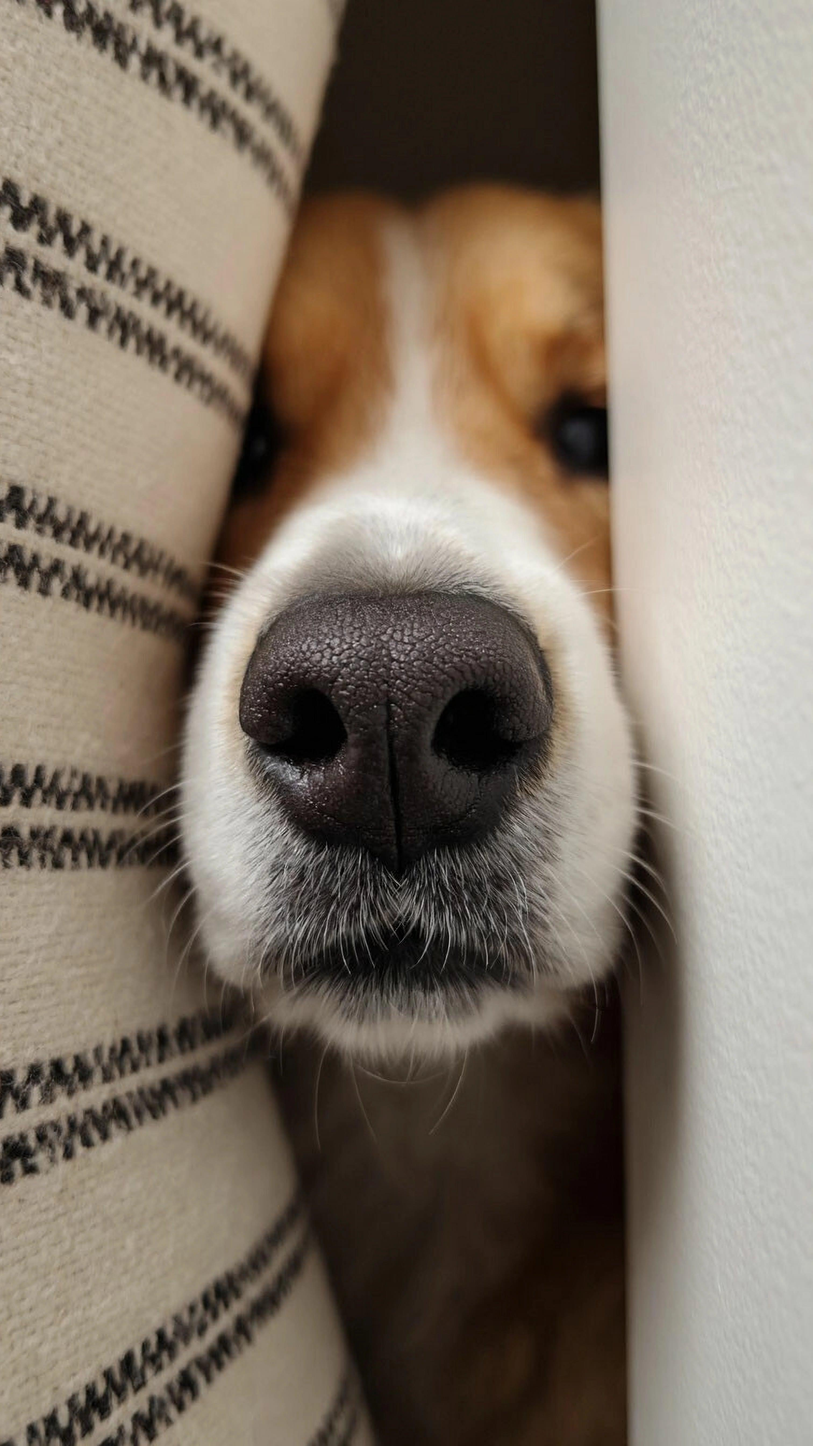adult_dog: (176, 173, 646, 1446)
